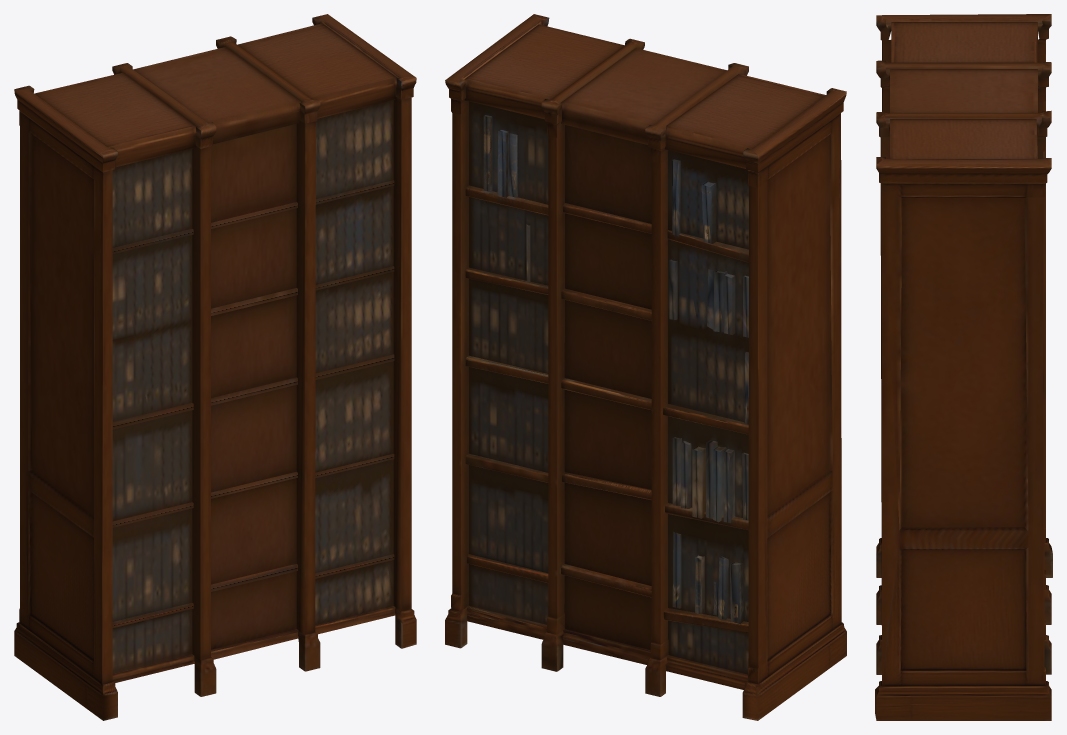
File: furniture-archive-shelf.glb
The picture shows the model from 3 angles, left to right: view 1: azimuth 30°, elevation 25°; view 2: azimuth 150°, elevation 25°; view 3: azimuth 270°, elevation 25°; orthographic projection.
Visible parts, largest first — view 1: tripo_node_5c62ba74-8c06-48d7-bbf6-18f4c9b72175; view 2: tripo_node_5c62ba74-8c06-48d7-bbf6-18f4c9b72175; view 3: tripo_node_5c62ba74-8c06-48d7-bbf6-18f4c9b72175.
Boxes of the visible parts, bbox=[...] form: tripo_node_5c62ba74-8c06-48d7-bbf6-18f4c9b72175: bbox=[14, 14, 416, 720]; tripo_node_5c62ba74-8c06-48d7-bbf6-18f4c9b72175: bbox=[445, 14, 846, 720]; tripo_node_5c62ba74-8c06-48d7-bbf6-18f4c9b72175: bbox=[875, 14, 1052, 720].
Size of the model in its own units: 1.3 by 2.25 by 0.65.
1 material, 1 textured.
